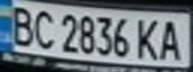2: (54, 10, 81, 53)
3: (93, 14, 115, 56)
6: (112, 15, 136, 60)
8: (75, 11, 96, 55)
A: (157, 16, 187, 62)
B: (3, 2, 39, 47)
C: (30, 7, 57, 51)
K: (133, 16, 163, 61)
